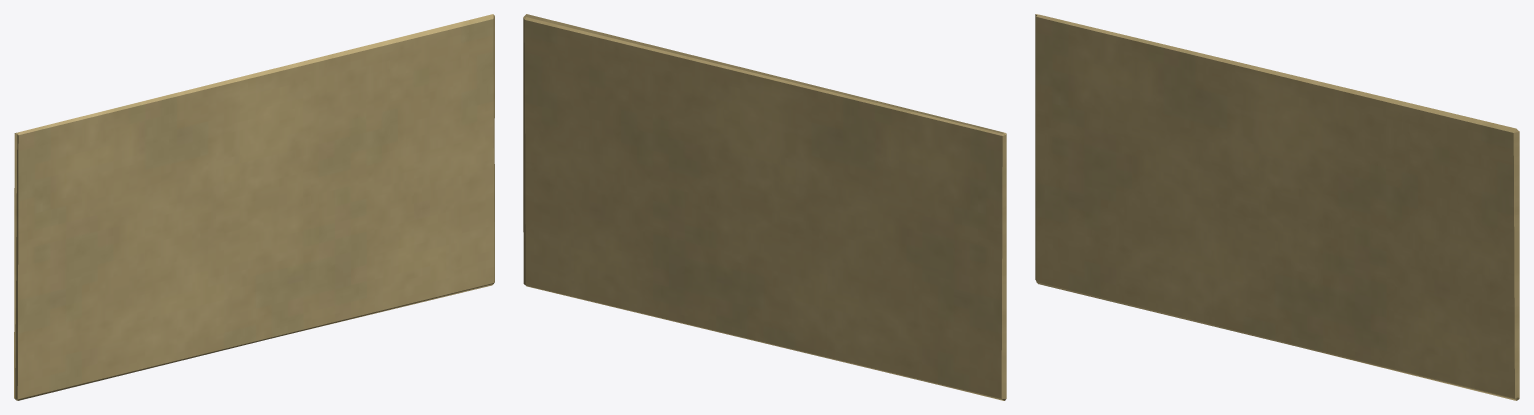
The picture shows the model from 3 angles, left to right: view 1: azimuth 30°, elevation 25°; view 2: azimuth 150°, elevation 25°; view 3: azimuth 330°, elevation 25°; orthographic projection.
Parts seen in each view (by area): view 1: ticket; view 2: ticket; view 3: ticket.
Part boxes in pixels (bbox=[...]): ticket: bbox=[14, 14, 494, 400]; ticket: bbox=[523, 14, 1006, 400]; ticket: bbox=[1035, 14, 1519, 400].
Bounding box in the file's own units: 0.0571 × 0.0308 × 0.000725.
1 material, 1 textured.
